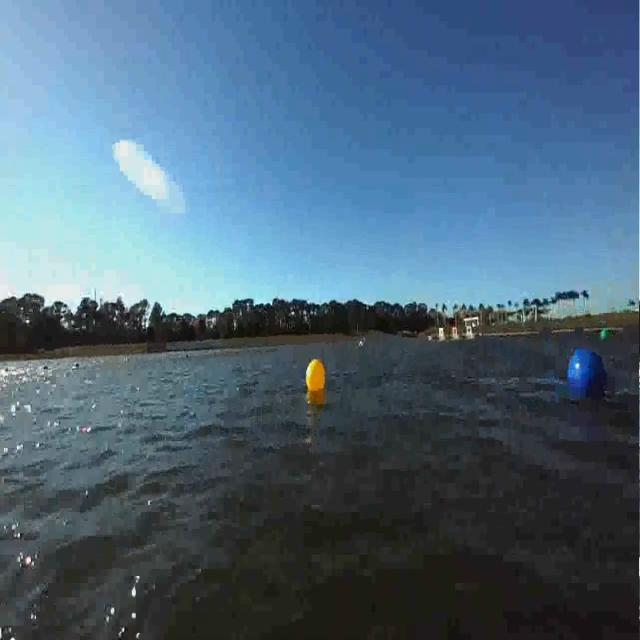blue-buoy: (564, 346, 608, 400)
yellow-buoy: (306, 359, 326, 393)
